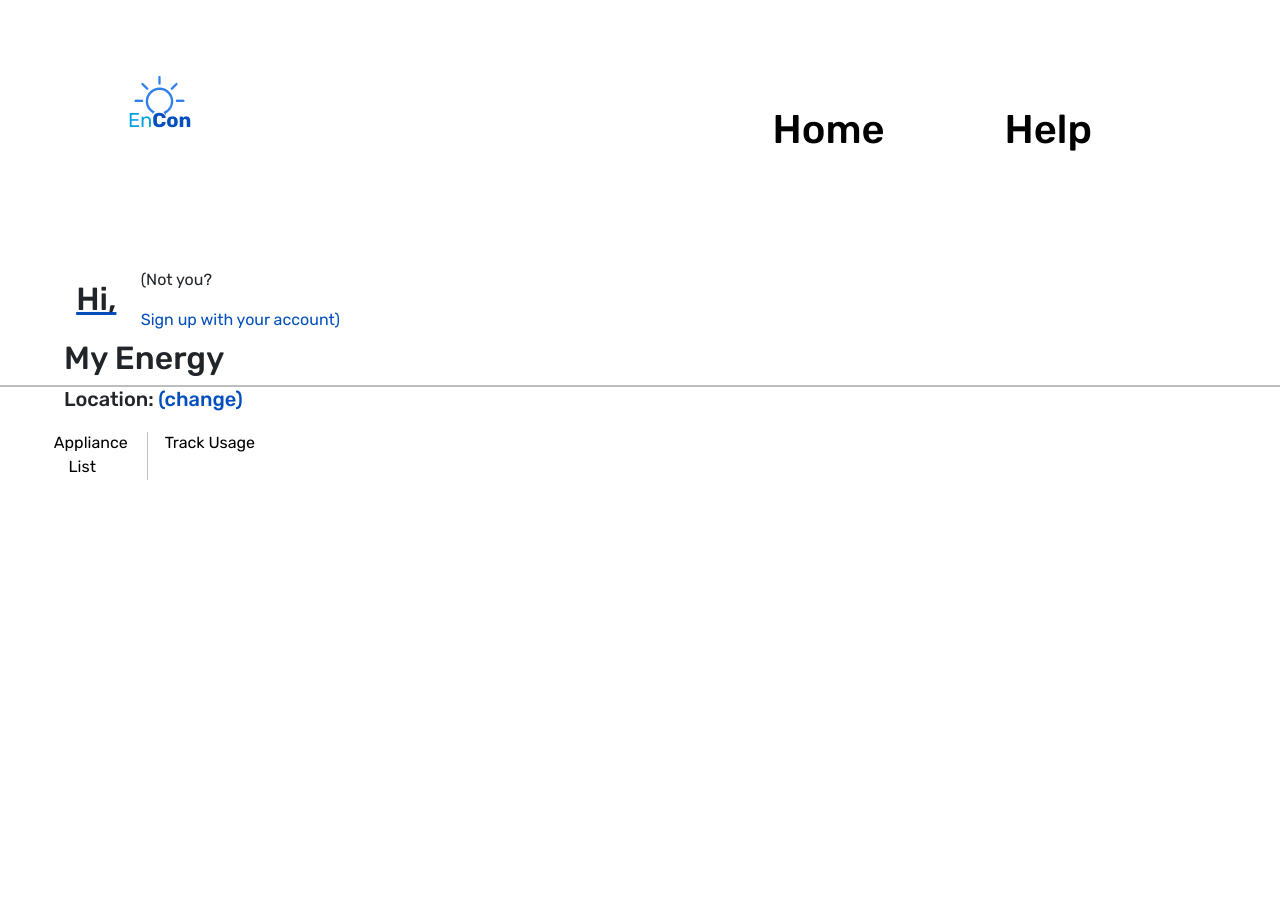
it: should render the appliance list after button is clicked
Click the link "Appliance List": (87, 443) 45,432 -> 128,479
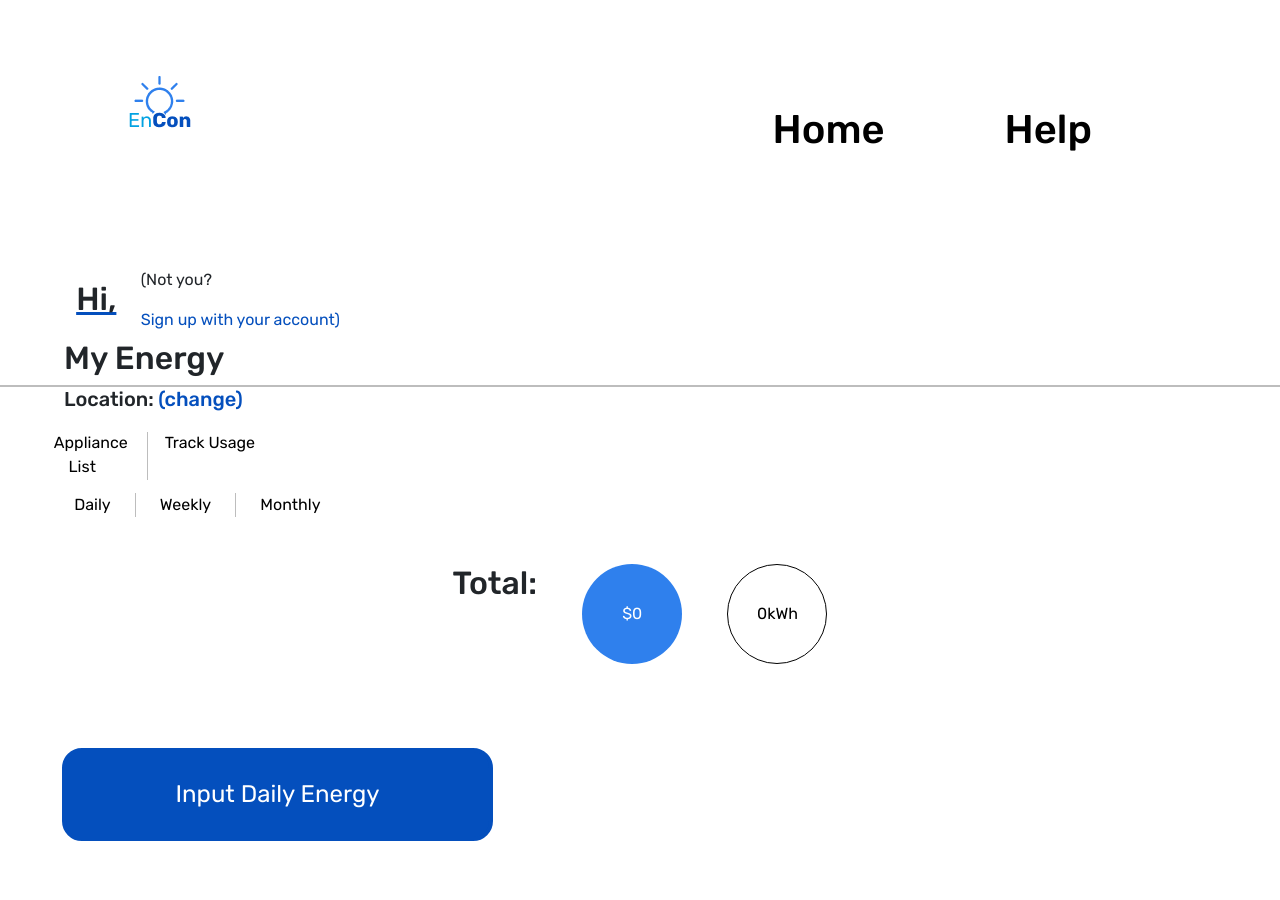
Now the button "Input Daily Energy" is shown, box 62,748 -> 493,841
